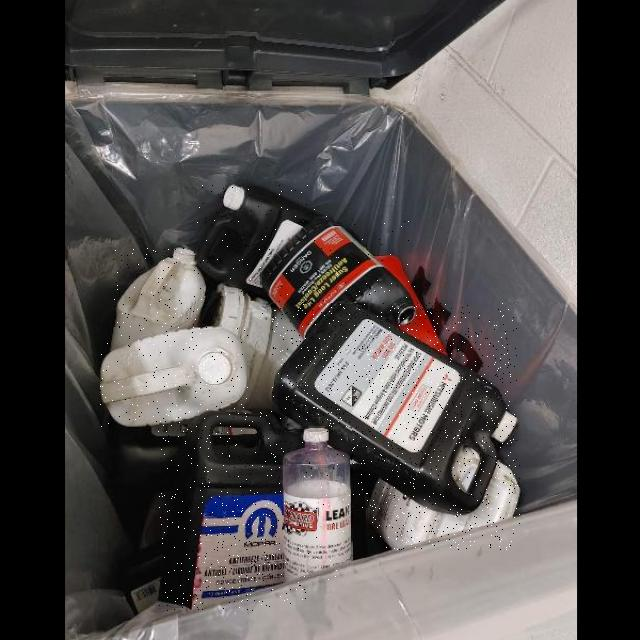plastic: (273, 304, 517, 515), (159, 410, 306, 611), (262, 216, 416, 339), (101, 327, 248, 427), (367, 462, 520, 550), (198, 185, 319, 296), (283, 428, 352, 582), (111, 248, 208, 352)
